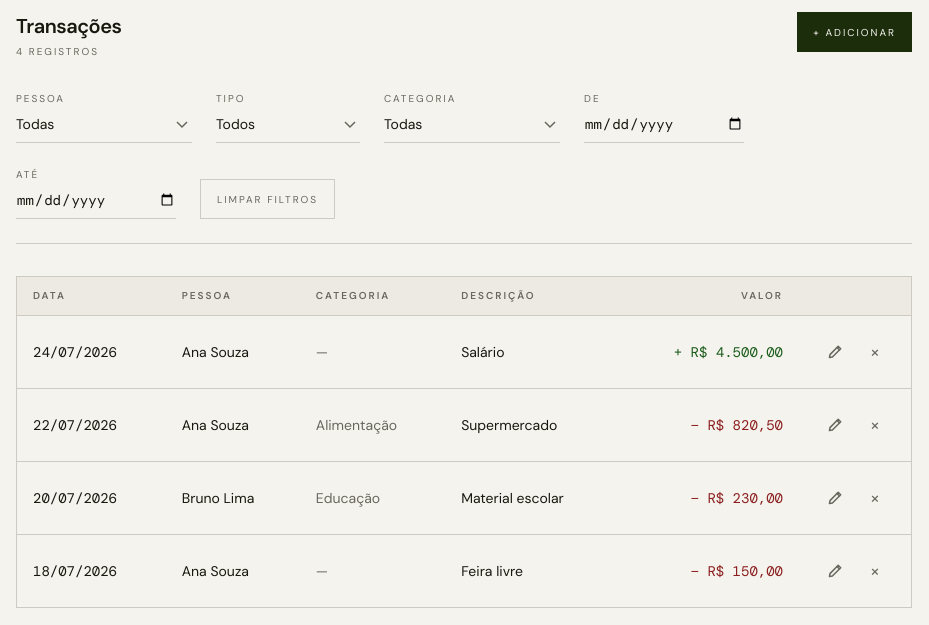
Scenario: transações › mostra o estado vazio quando o filtro não encontra nada
The image size is (929, 625).
Expected: the text "Supermercado" is shown, x1=445 y1=389 x2=618 y2=462
Select "Saúde" in the dropdown labelled "Categoria": point(472, 124) x1=384 y1=106 x2=560 y2=143
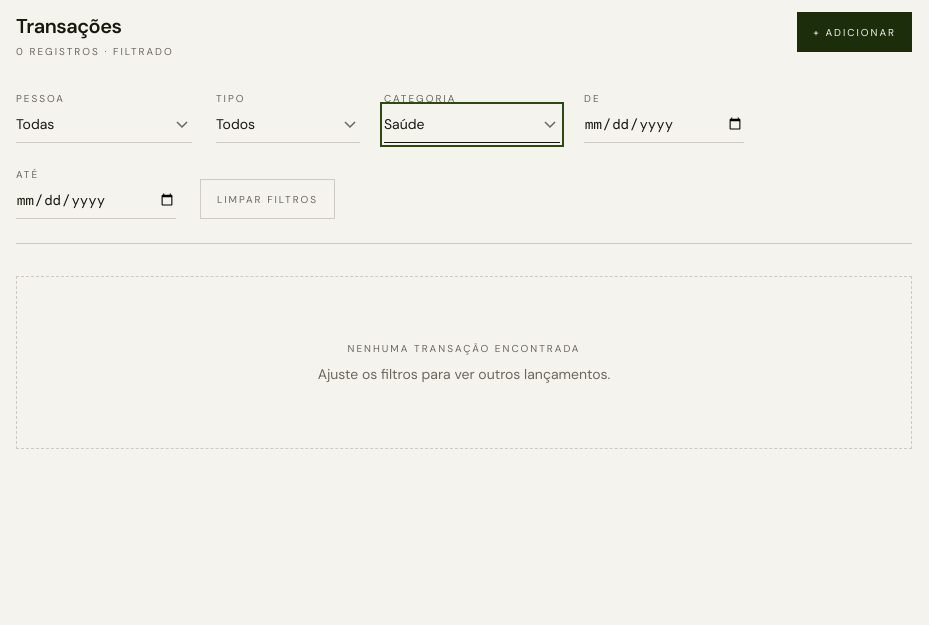
Expected: the text "Nenhuma transação encontrada" is shown, x1=348 y1=342 x2=580 y2=355
Expected: the text "Ajuste os filtros para ver outros lançamentos." is shown, x1=318 y1=365 x2=610 y2=383
